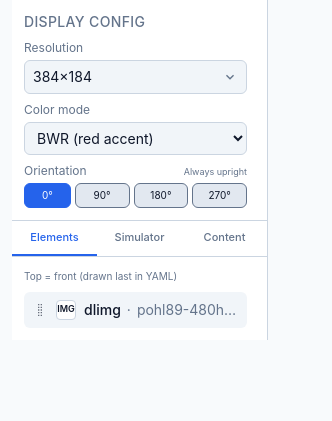
Test: Sidebar Content tab under hostOwnsAssets › the Content tab stays visible but offers no Upload/Clear affordance with no write callbacks
Click the button "Content" at (224, 238), box [182,221,267,256]
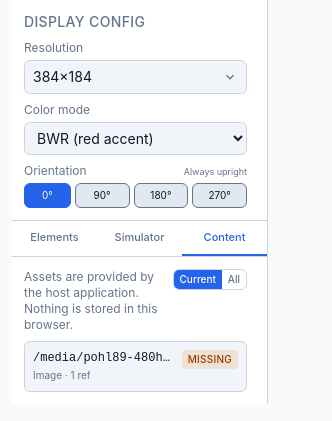
Now the text "/media/pohl89-480h.png" is shown, box [33,350,174,366]
